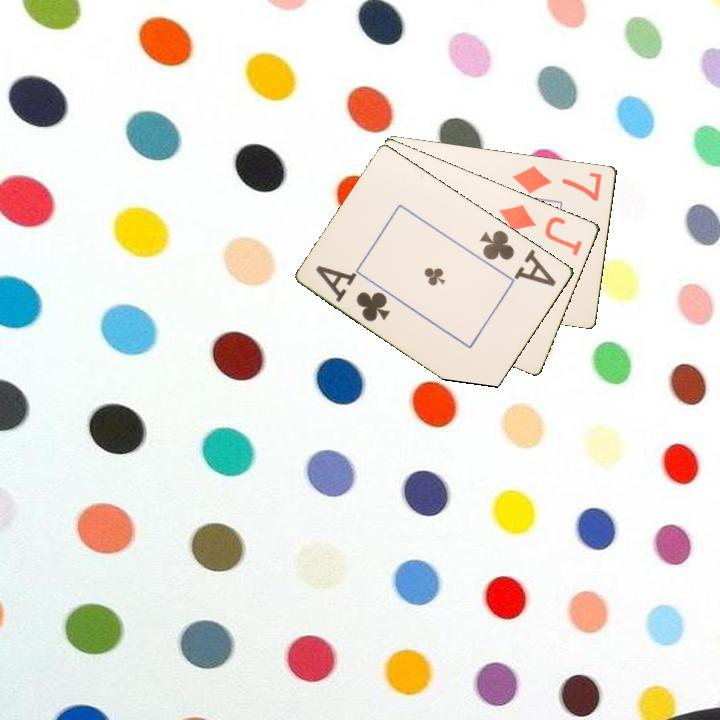7d: (509, 162, 605, 204)
Ac: (476, 226, 560, 290), (312, 262, 394, 325)
Jd: (496, 201, 585, 259)
